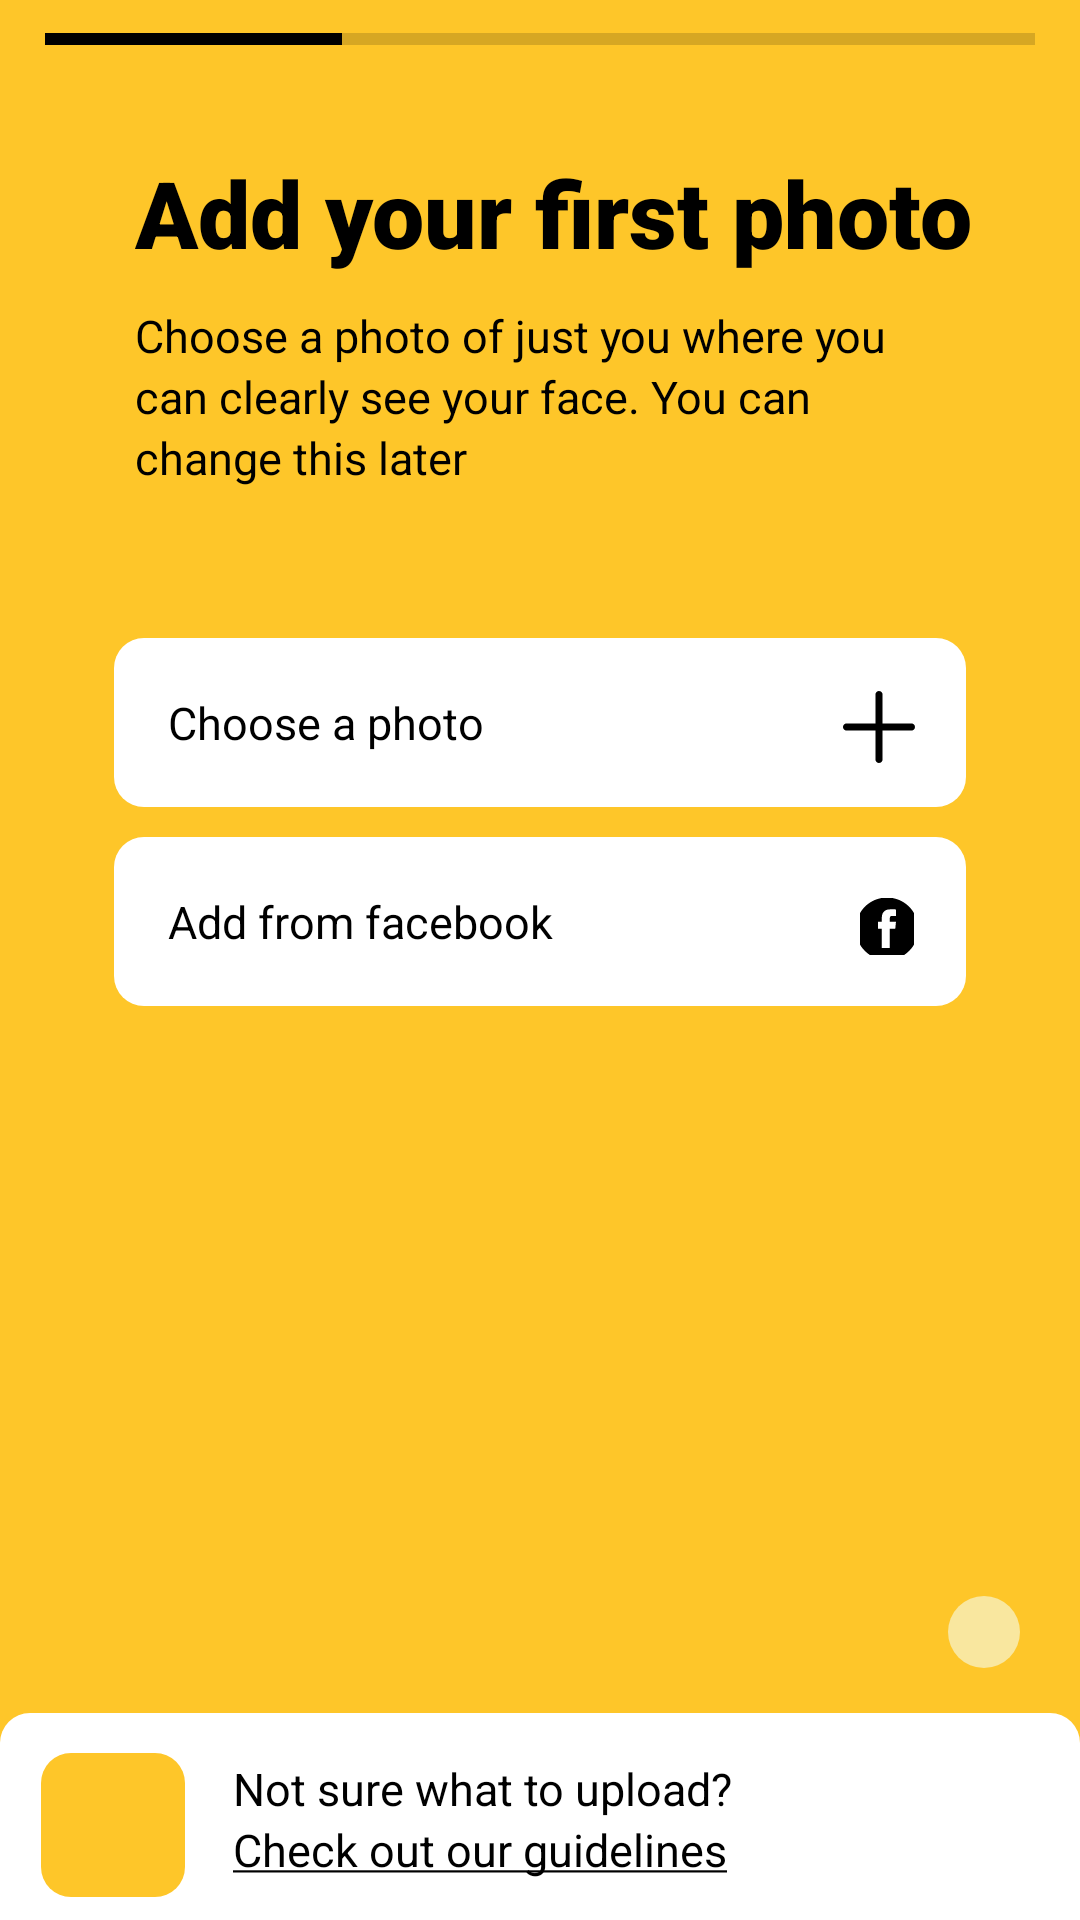

Screen size 1080×1920. Icon name, then its center in pixels as point (x, y):
plus: point (879, 727)
